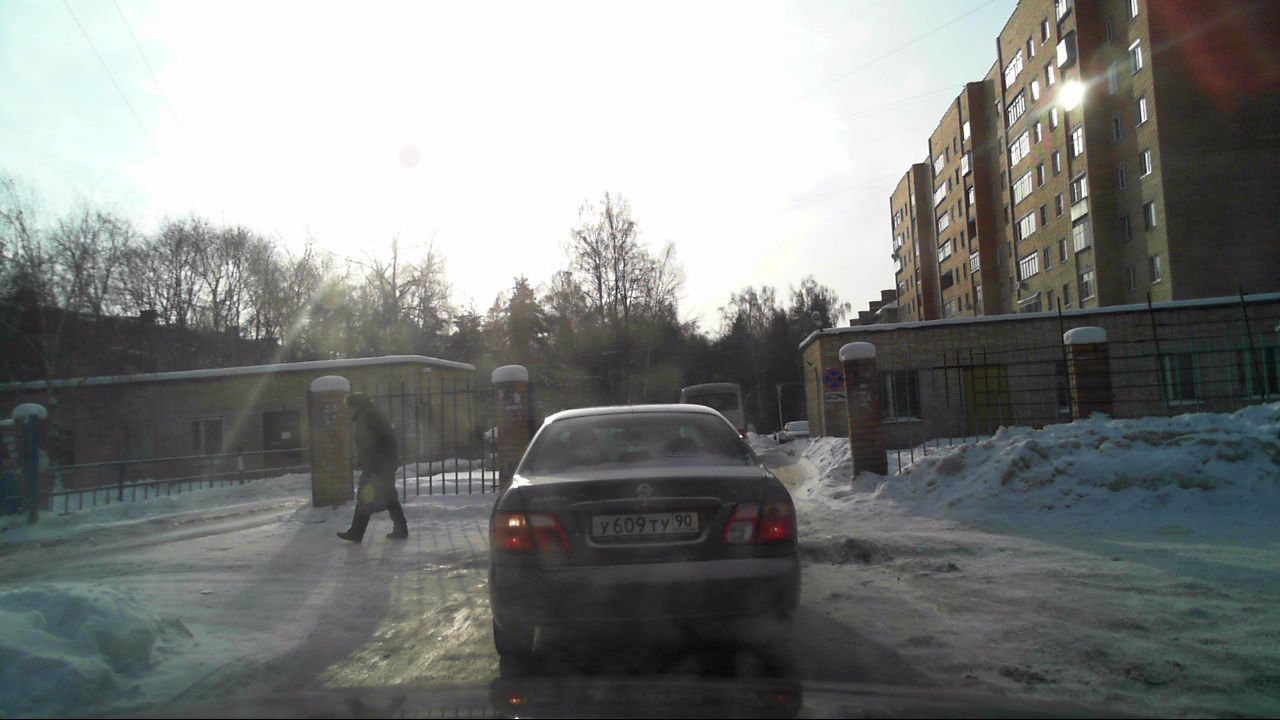No Parking: (823, 367, 845, 391)
